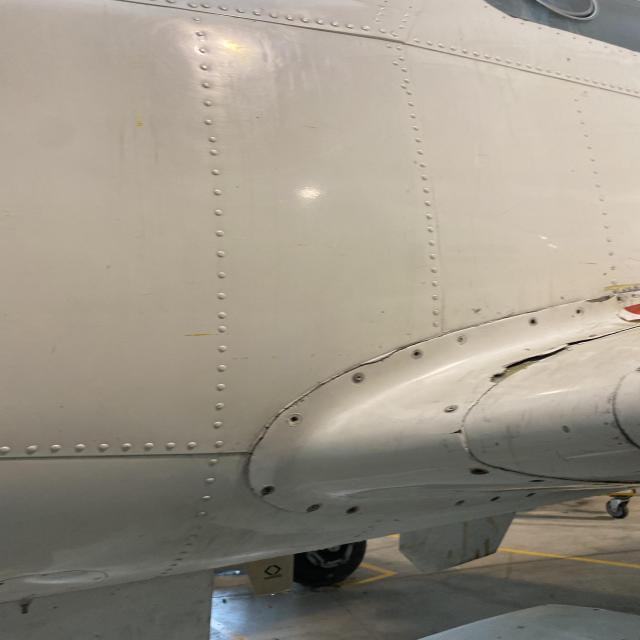Crack: (483, 340, 599, 388), (276, 369, 356, 406), (238, 408, 276, 461), (360, 350, 404, 370), (435, 426, 477, 439)
Missing_Fastener: (286, 414, 302, 426), (260, 484, 276, 496), (468, 467, 489, 475), (411, 348, 424, 359), (344, 505, 358, 515), (526, 318, 540, 326), (574, 307, 584, 316)
